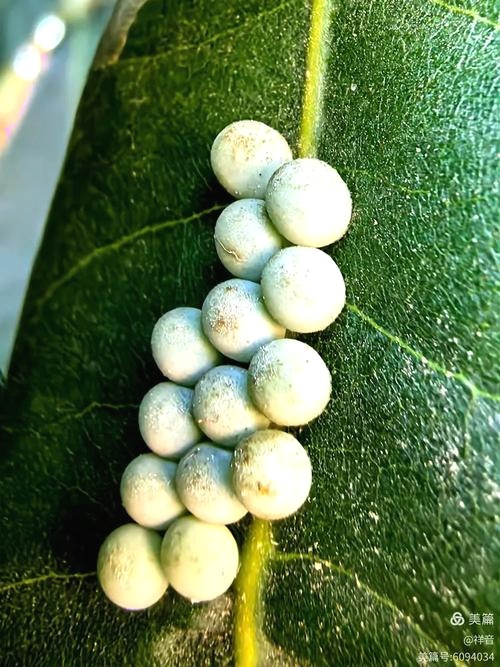Stink_Bug: (113, 109, 343, 605)
